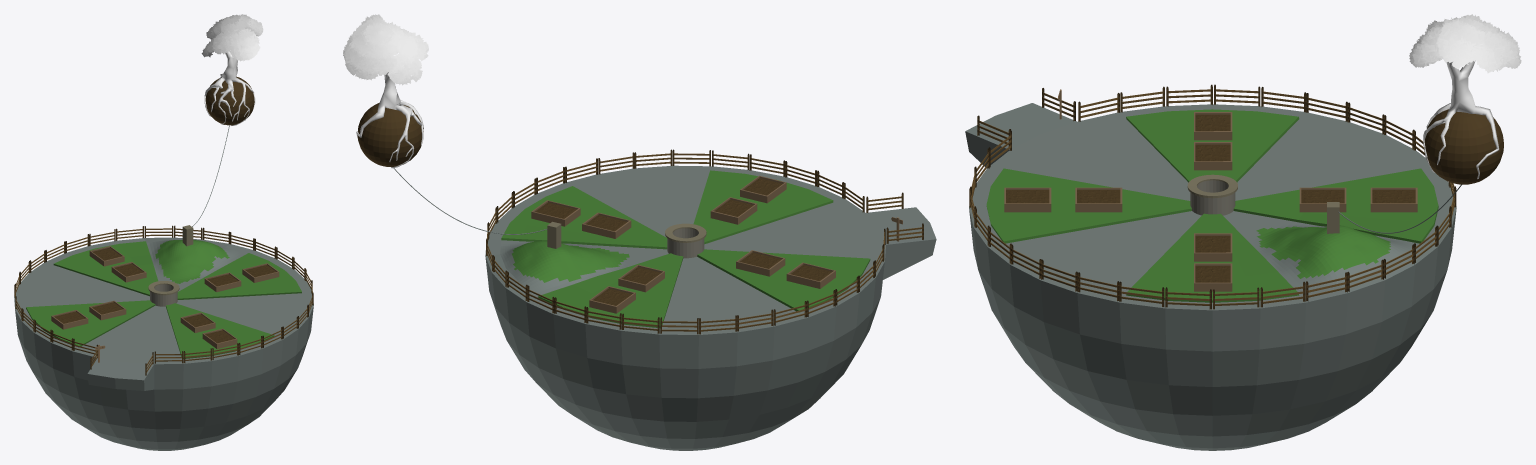
Rendered from garden3.fbx.
3 renders of one model, left to right at view 1: azimuth 30°, elevation 25°; view 2: azimuth 150°, elevation 25°; view 3: azimuth 270°, elevation 25°, orthographic. The views are drawn at different scales.
Parts seen in each view (by area): view 1: Sphere, tree2Wrapped.001, Sphere.001, tree2Wrapped, Cube.038, Cube.041, Cube.036, Cube.037, Cube.039, Cube.033, Cube.035, Cube.034 (+1 smaller); view 2: Sphere, tree2Wrapped.001, Sphere.001, tree2Wrapped, Cube.037, Cube.041, Cube.038, Cube.039, Cube.036, Cube.034, Cube.033, Cube.035 (+1 smaller); view 3: Sphere, tree2Wrapped.001, Sphere.001, tree2Wrapped, Cube.039, Cube.033, Cube.034, Cylinder, Cube.037, Cube.038, Cube.041, Cube.036 (+2 smaller).
Part boxes in pixels (x1,y1,x2,y2): Sphere: (14, 237, 313, 450); tree2Wrapped.001: (201, 14, 263, 92); Sphere.001: (205, 76, 254, 125); tree2Wrapped: (204, 51, 255, 125); Cube.038: (89, 300, 126, 320); Cube.041: (51, 310, 88, 329); Cube.036: (242, 263, 279, 282); Cube.037: (204, 272, 241, 292); Cube.039: (180, 312, 215, 332); Cube.033: (202, 328, 237, 348); Cube.035: (111, 262, 146, 282); Cube.034: (89, 246, 124, 266); Sphere: (485, 165, 936, 450); tree2Wrapped.001: (343, 14, 428, 110); Sphere.001: (357, 103, 423, 166); tree2Wrapped: (356, 72, 423, 168); Cube.037: (582, 212, 631, 238); Cube.041: (786, 262, 835, 288); Cube.038: (736, 250, 785, 276); Cube.039: (710, 197, 757, 224); Cube.036: (531, 200, 580, 226); Cube.034: (589, 286, 635, 313); Cube.033: (740, 175, 786, 203); Cube.035: (618, 265, 664, 292); Sphere: (965, 103, 1456, 450); tree2Wrapped.001: (1409, 14, 1521, 73); Sphere.001: (1423, 109, 1503, 184); tree2Wrapped: (1423, 60, 1499, 178); Cube.039: (1075, 187, 1122, 212); Cube.033: (1004, 187, 1051, 212); Cube.034: (1370, 187, 1417, 212); Cylinder: (1190, 180, 1235, 215); Cube.037: (1194, 233, 1232, 261); Cube.038: (1194, 142, 1232, 170); Cube.041: (1194, 112, 1232, 140); Cube.036: (1194, 263, 1232, 291).
Size of the model in its own units: 2.35 by 2.38 by 2.28.
